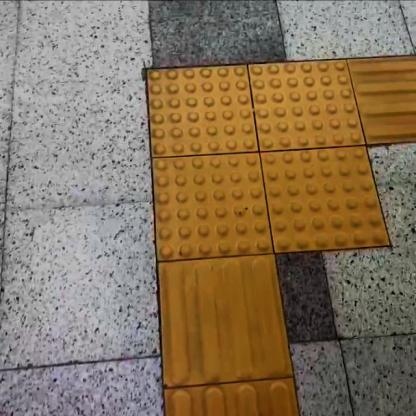podotacti: (127, 32, 416, 303), (157, 262, 300, 415)
